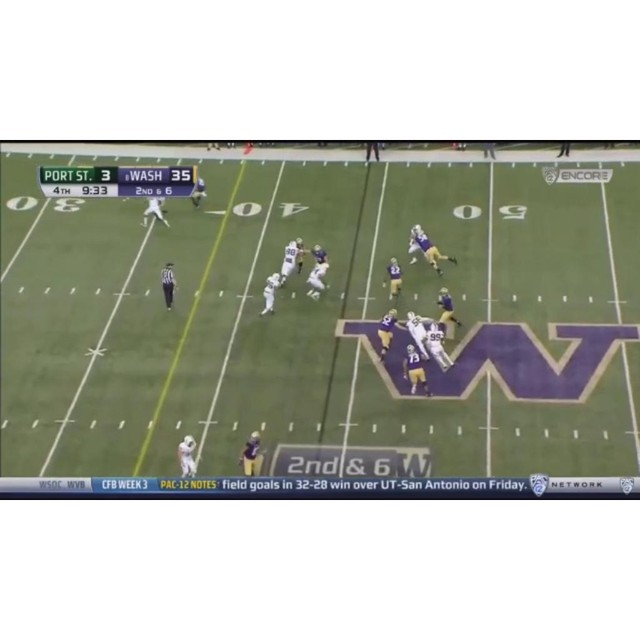american-football-player: (413, 226, 456, 277), (403, 343, 433, 397), (425, 320, 455, 372), (376, 309, 405, 360), (279, 238, 304, 287), (239, 431, 264, 477), (436, 286, 463, 328), (259, 272, 283, 316), (306, 260, 330, 301), (140, 197, 170, 229), (406, 223, 426, 265), (178, 435, 198, 476), (385, 258, 404, 300), (190, 176, 207, 210)
referee: (161, 261, 178, 311)
